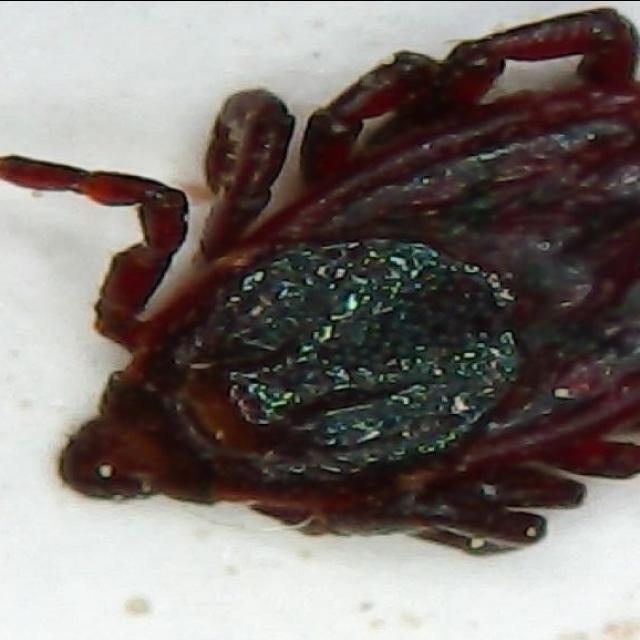Rhipicephalus Sanguineus-F: (0, 5, 640, 556)
